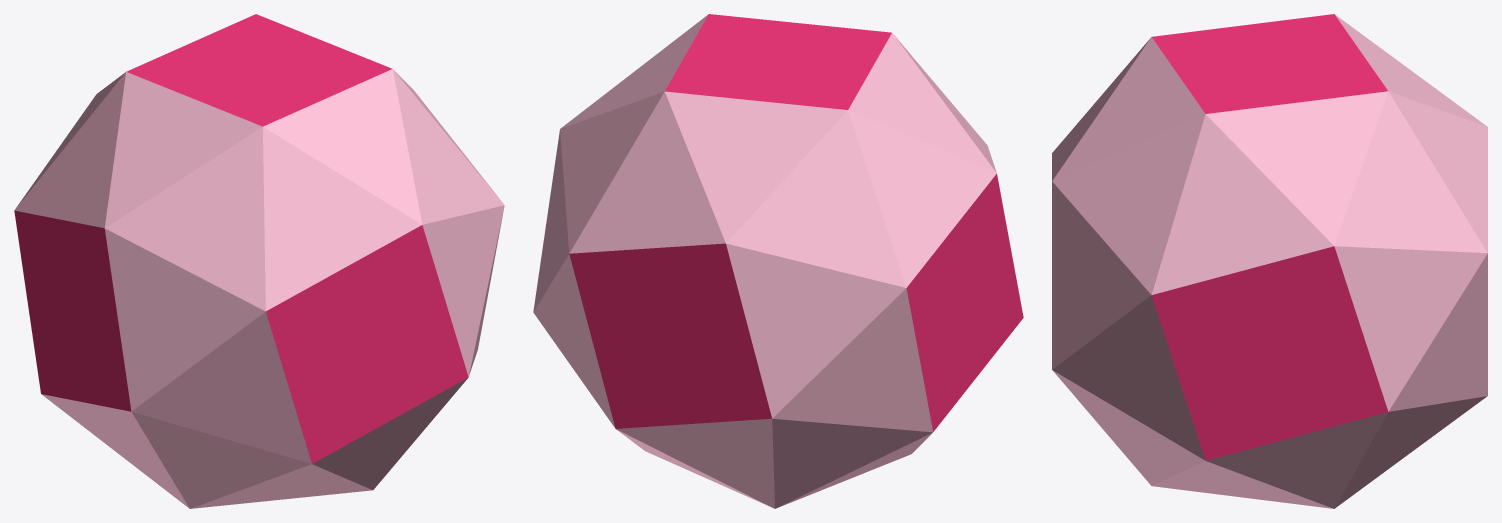
3 renders of one model, left to right at view 1: azimuth 30°, elevation 25°; view 2: azimuth 150°, elevation 25°; view 3: azimuth 270°, elevation 25°, orthographic.
Visible parts, largest first — view 1: Snub_cube; view 2: Snub_cube; view 3: Snub_cube.
Part boxes in pixels (bbox=[...]): Snub_cube: bbox=[14, 14, 504, 508]; Snub_cube: bbox=[533, 14, 1023, 508]; Snub_cube: bbox=[1052, 14, 1487, 508].
Size of the model in its own units: 170 by 170 by 170.
